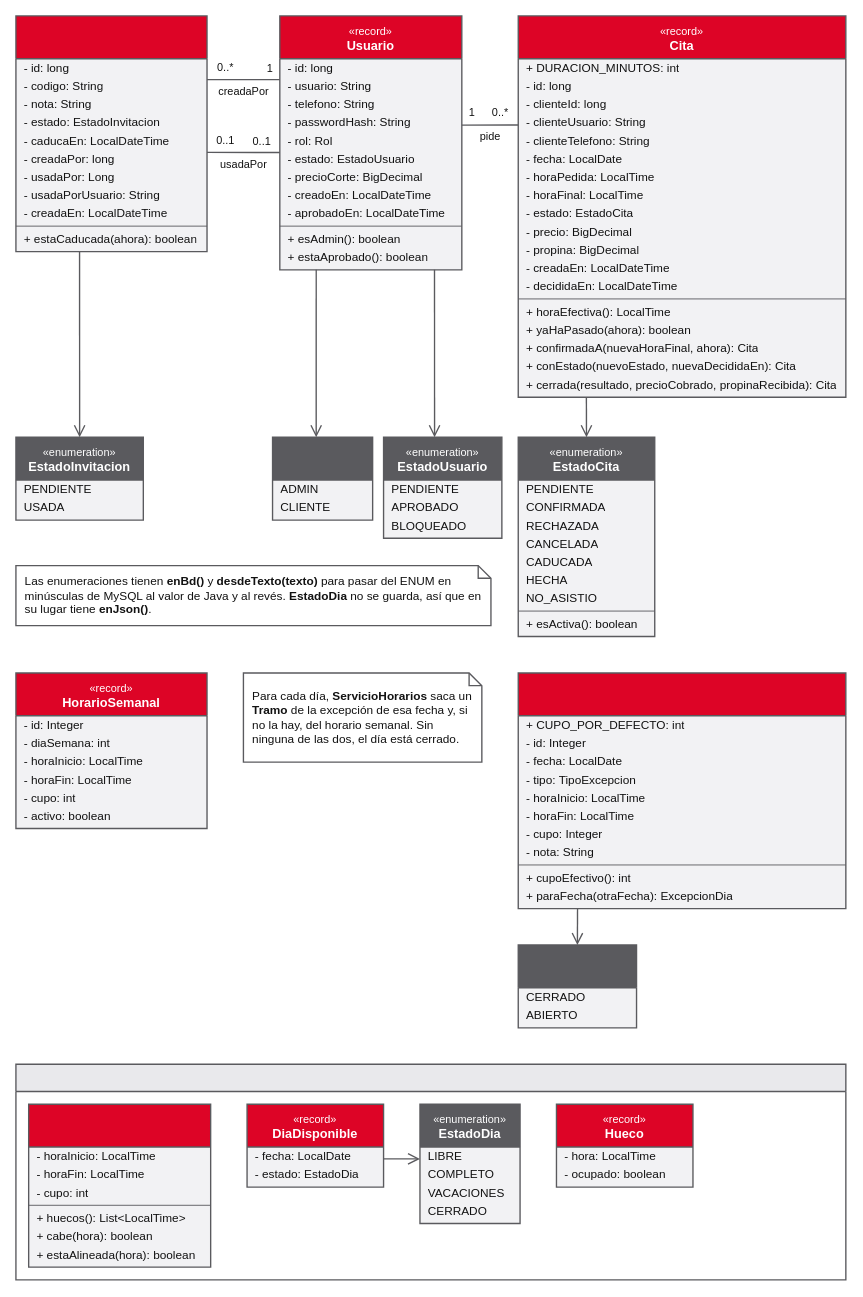
Image size: 863x1297. Some labels were removed from this diagram. Each missing label, with the box of its shape:
valores que calcula ServicioHorarios (no se guardan): (15, 1063, 846, 1280)
«enumeration» Rol: (271, 436, 373, 520)
«enumeration» TipoExcepcion: (517, 944, 637, 1028)
«record» ExcepcionDia: (517, 672, 846, 909)
«record» Invitacion: (15, 15, 207, 252)
«record» Tramo: (28, 1103, 211, 1267)
